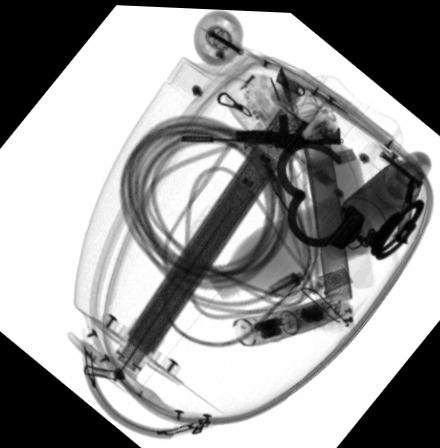Baton: (230, 286, 352, 344)
Bullet: (393, 172, 413, 238)
Gun: (180, 110, 342, 146)
HandCuffs: (275, 135, 424, 255)
